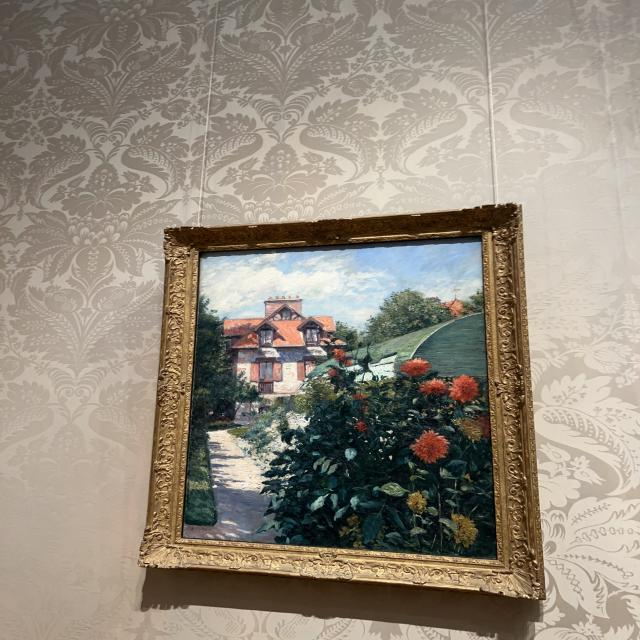summer: (186, 246, 493, 557)
